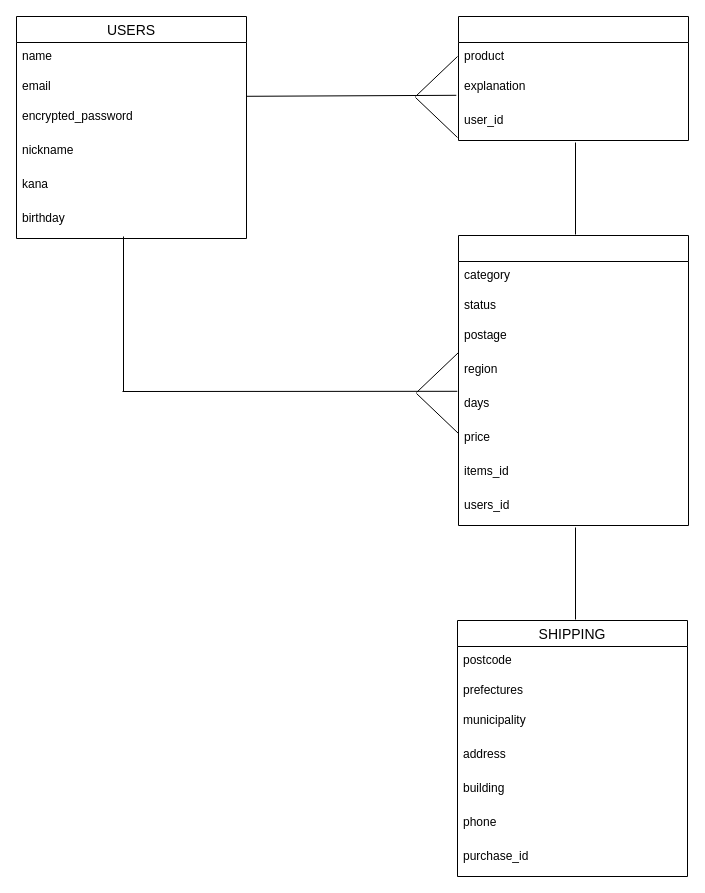
Some shapes in this 705 by 893 pixel diagram are drawn without their labels. The box of each missing label's shape, as (x1, y1, x2, y2) in pixels:
ITEMS: (458, 16, 688, 140)
PURCHASE: (458, 234, 688, 526)
